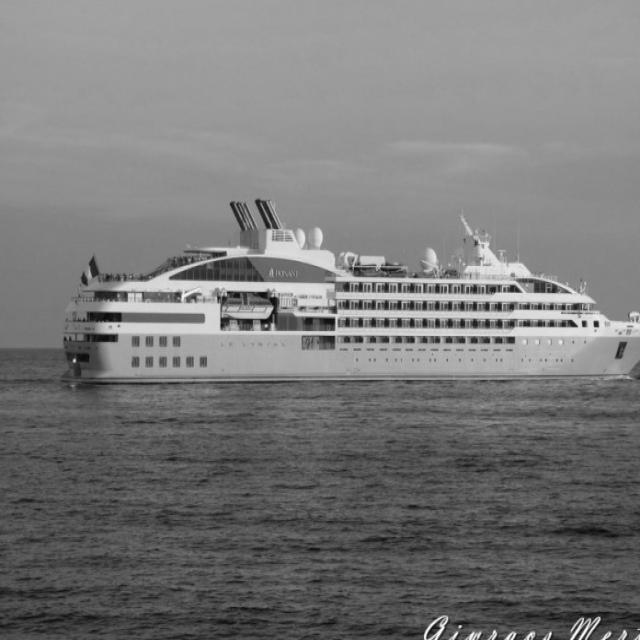cruises: (53, 196, 640, 393)
